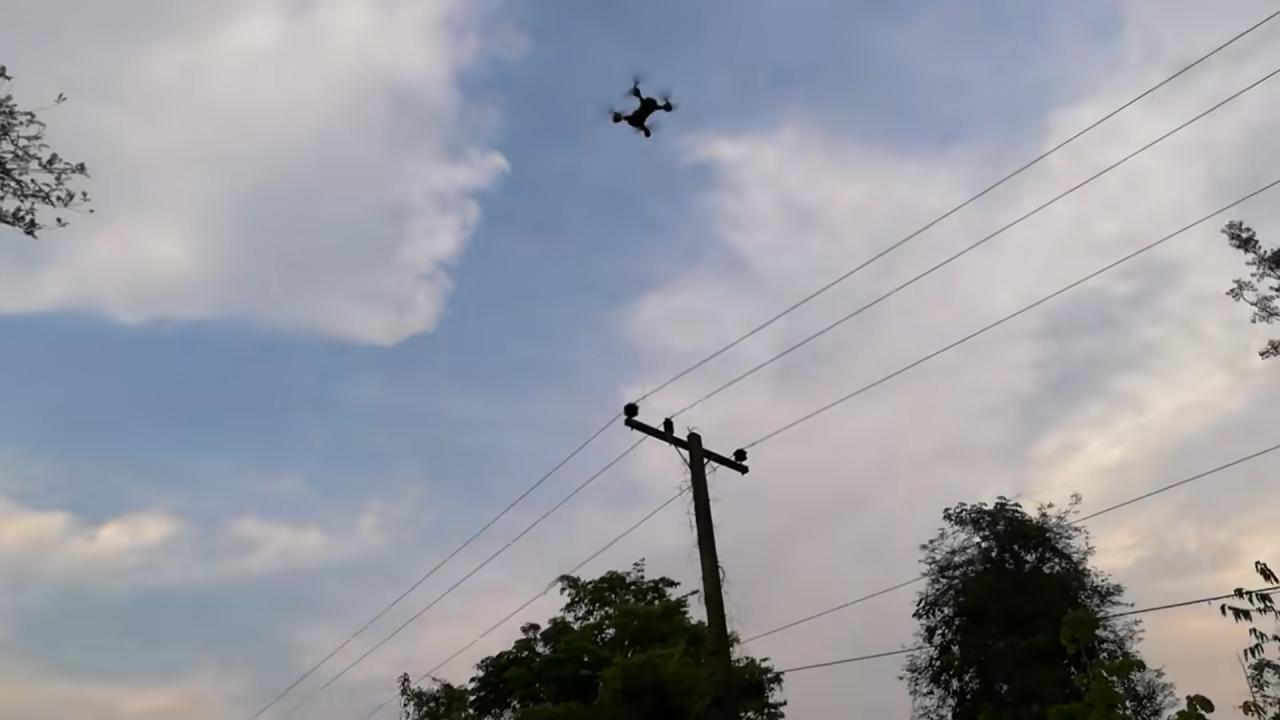Drone: (594, 66, 687, 155)
